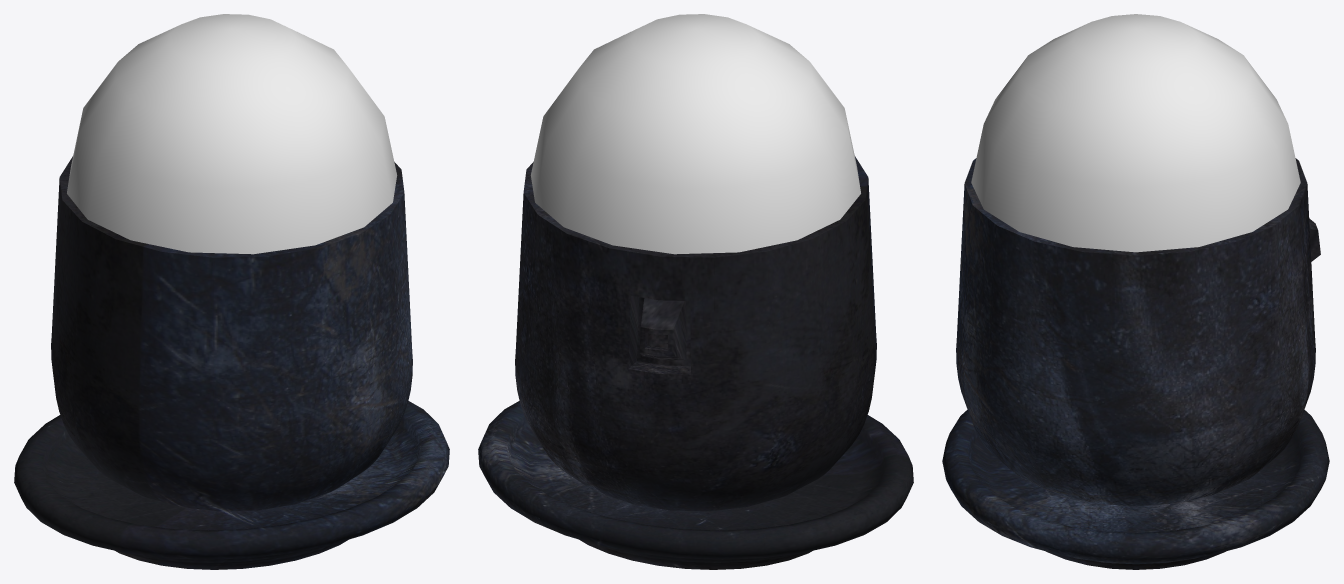
File: alien_tex.fbx
3 views of the same model, side by side, from view 1: azimuth 30°, elevation 25°; view 2: azimuth 150°, elevation 25°; view 3: azimuth 270°, elevation 25° (orthographic).
Parts seen in each view (by area): view 1: disc_1, glas; view 2: disc_1, glas; view 3: disc_1, glas.
Boxes of the visible parts, left/top/right/bottom form: disc_1: left=14, top=156, right=449, bottom=569; glas: left=67, top=14, right=397, bottom=254; disc_1: left=478, top=156, right=913, bottom=569; glas: left=530, top=14, right=860, bottom=254; disc_1: left=942, top=158, right=1329, bottom=569; glas: left=971, top=14, right=1300, bottom=252.
Size of the model in its own units: 180 by 214 by 156.
Materials: 2 (2 with a texture image).
